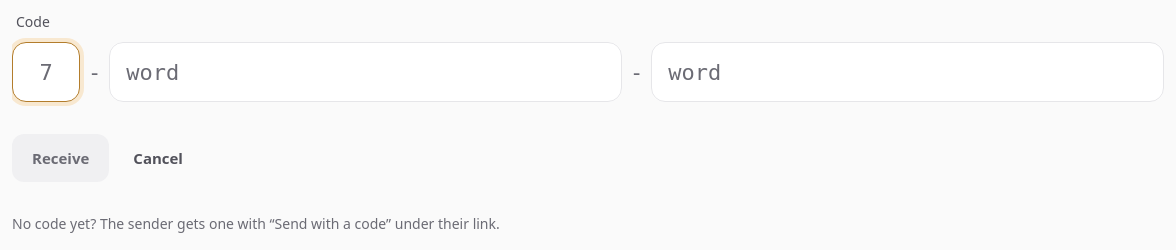
Test: EnterCode › explains a code that didn't work and lets the user try again
The image size is (1176, 250).
Type "7-acid-rocket" into the field named "Number". click: (46, 72)
box: [12, 42, 80, 102]
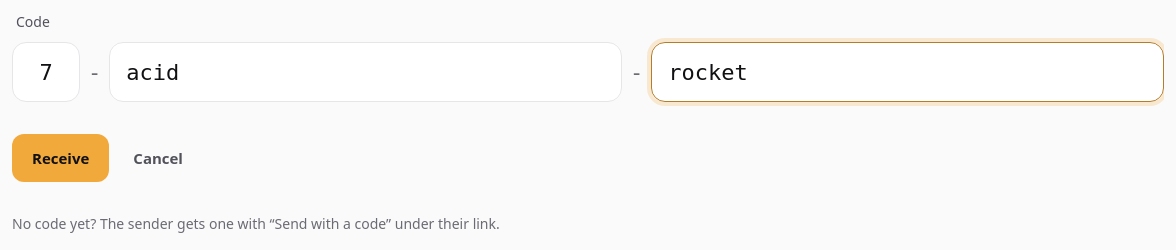
Click the button "Receive". click: click(61, 158)
box: [12, 134, 109, 182]
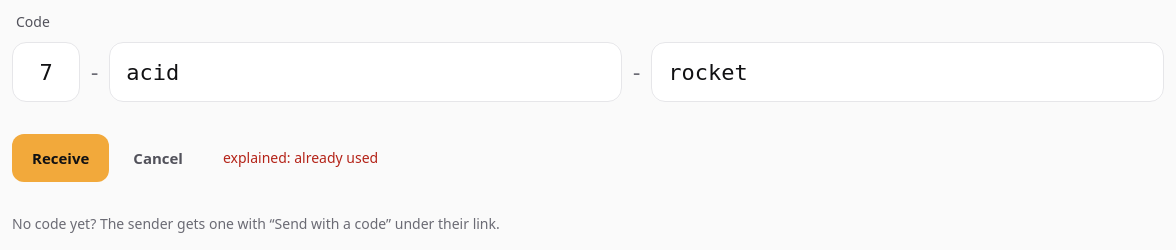
Expected: the button "Receive" is enabled, [12, 134, 109, 182]
Expected: the text "explained: already used" is shown, [223, 148, 378, 168]
